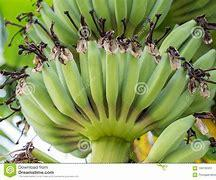banana: (20, 31, 184, 143), (21, 0, 199, 49)
